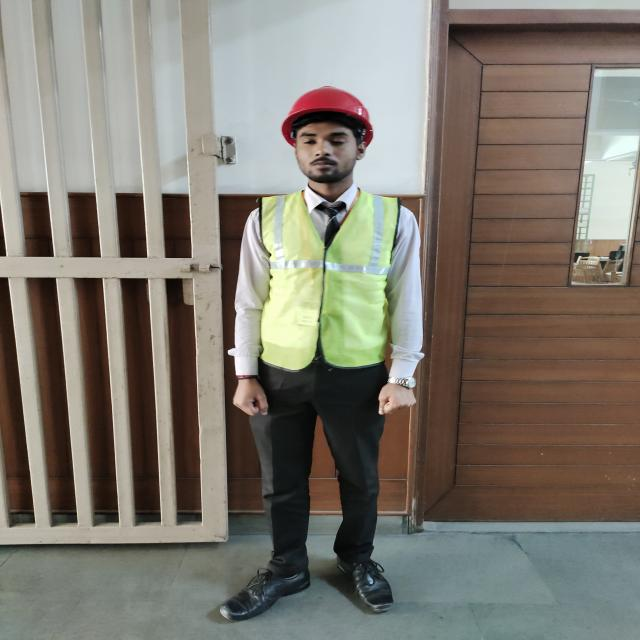safe: (222, 86, 421, 623)
